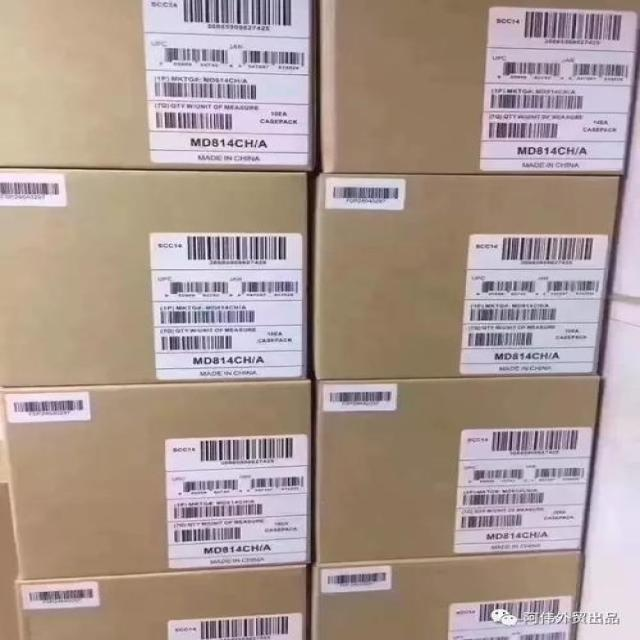Carton: (0, 174, 310, 580), (312, 0, 639, 378), (0, 0, 314, 173), (315, 379, 603, 567)
